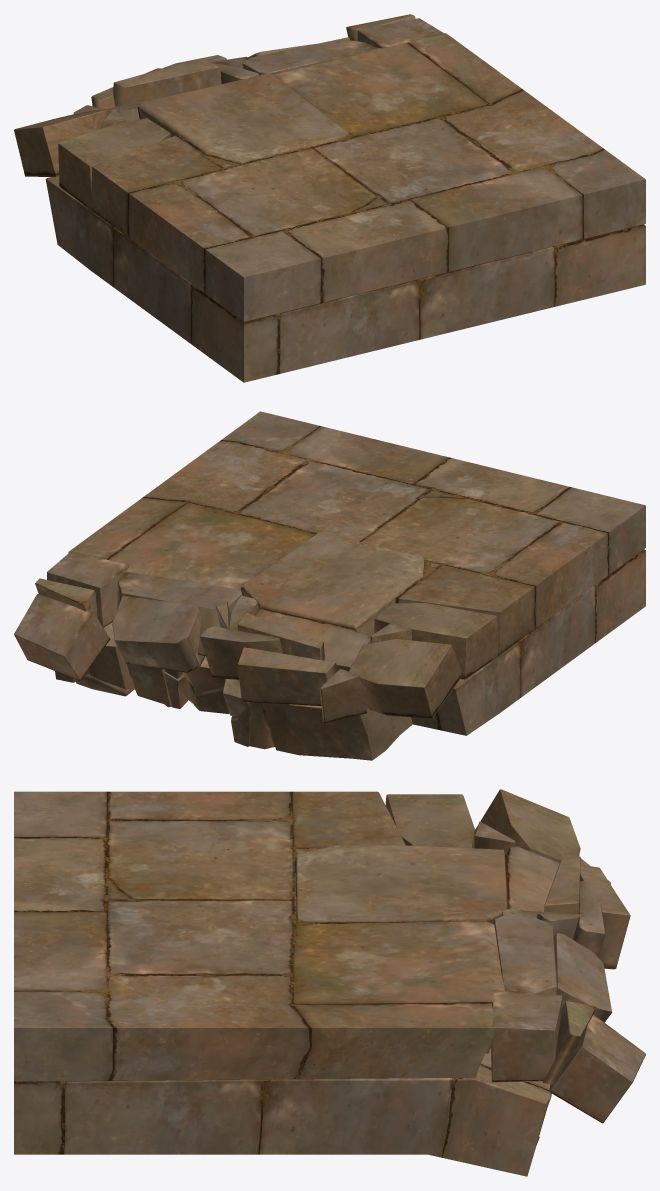
3 views of the same model, one above another, from view 1: azimuth 30°, elevation 25°; view 2: azimuth 150°, elevation 25°; view 3: azimuth 270°, elevation 25° (orthographic). The views are drawn at different scales.
Parts seen in each view (by area): view 1: SM_DK_4m_Floor_03_LOD0; view 2: SM_DK_4m_Floor_03_LOD0; view 3: SM_DK_4m_Floor_03_LOD0.
Part boxes in pixels (bbox=[...]): SM_DK_4m_Floor_03_LOD0: bbox=[14, 14, 645, 382]; SM_DK_4m_Floor_03_LOD0: bbox=[14, 411, 645, 760]; SM_DK_4m_Floor_03_LOD0: bbox=[14, 789, 645, 1176].
Bounding box in the file's own units: 4.01 × 1.33 × 4.52.
1 material, 1 textured.
